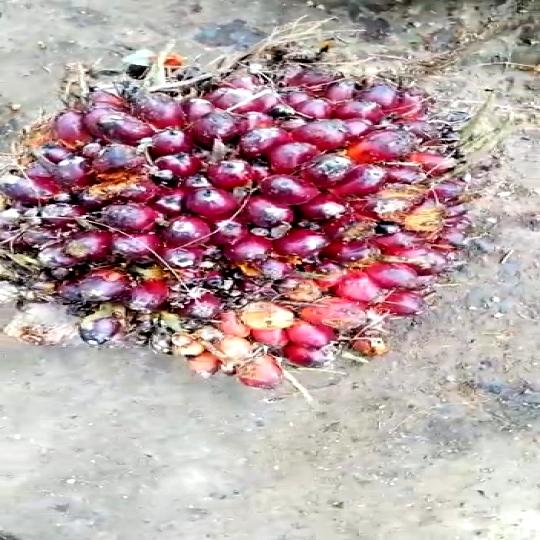masak: (0, 51, 471, 392)
